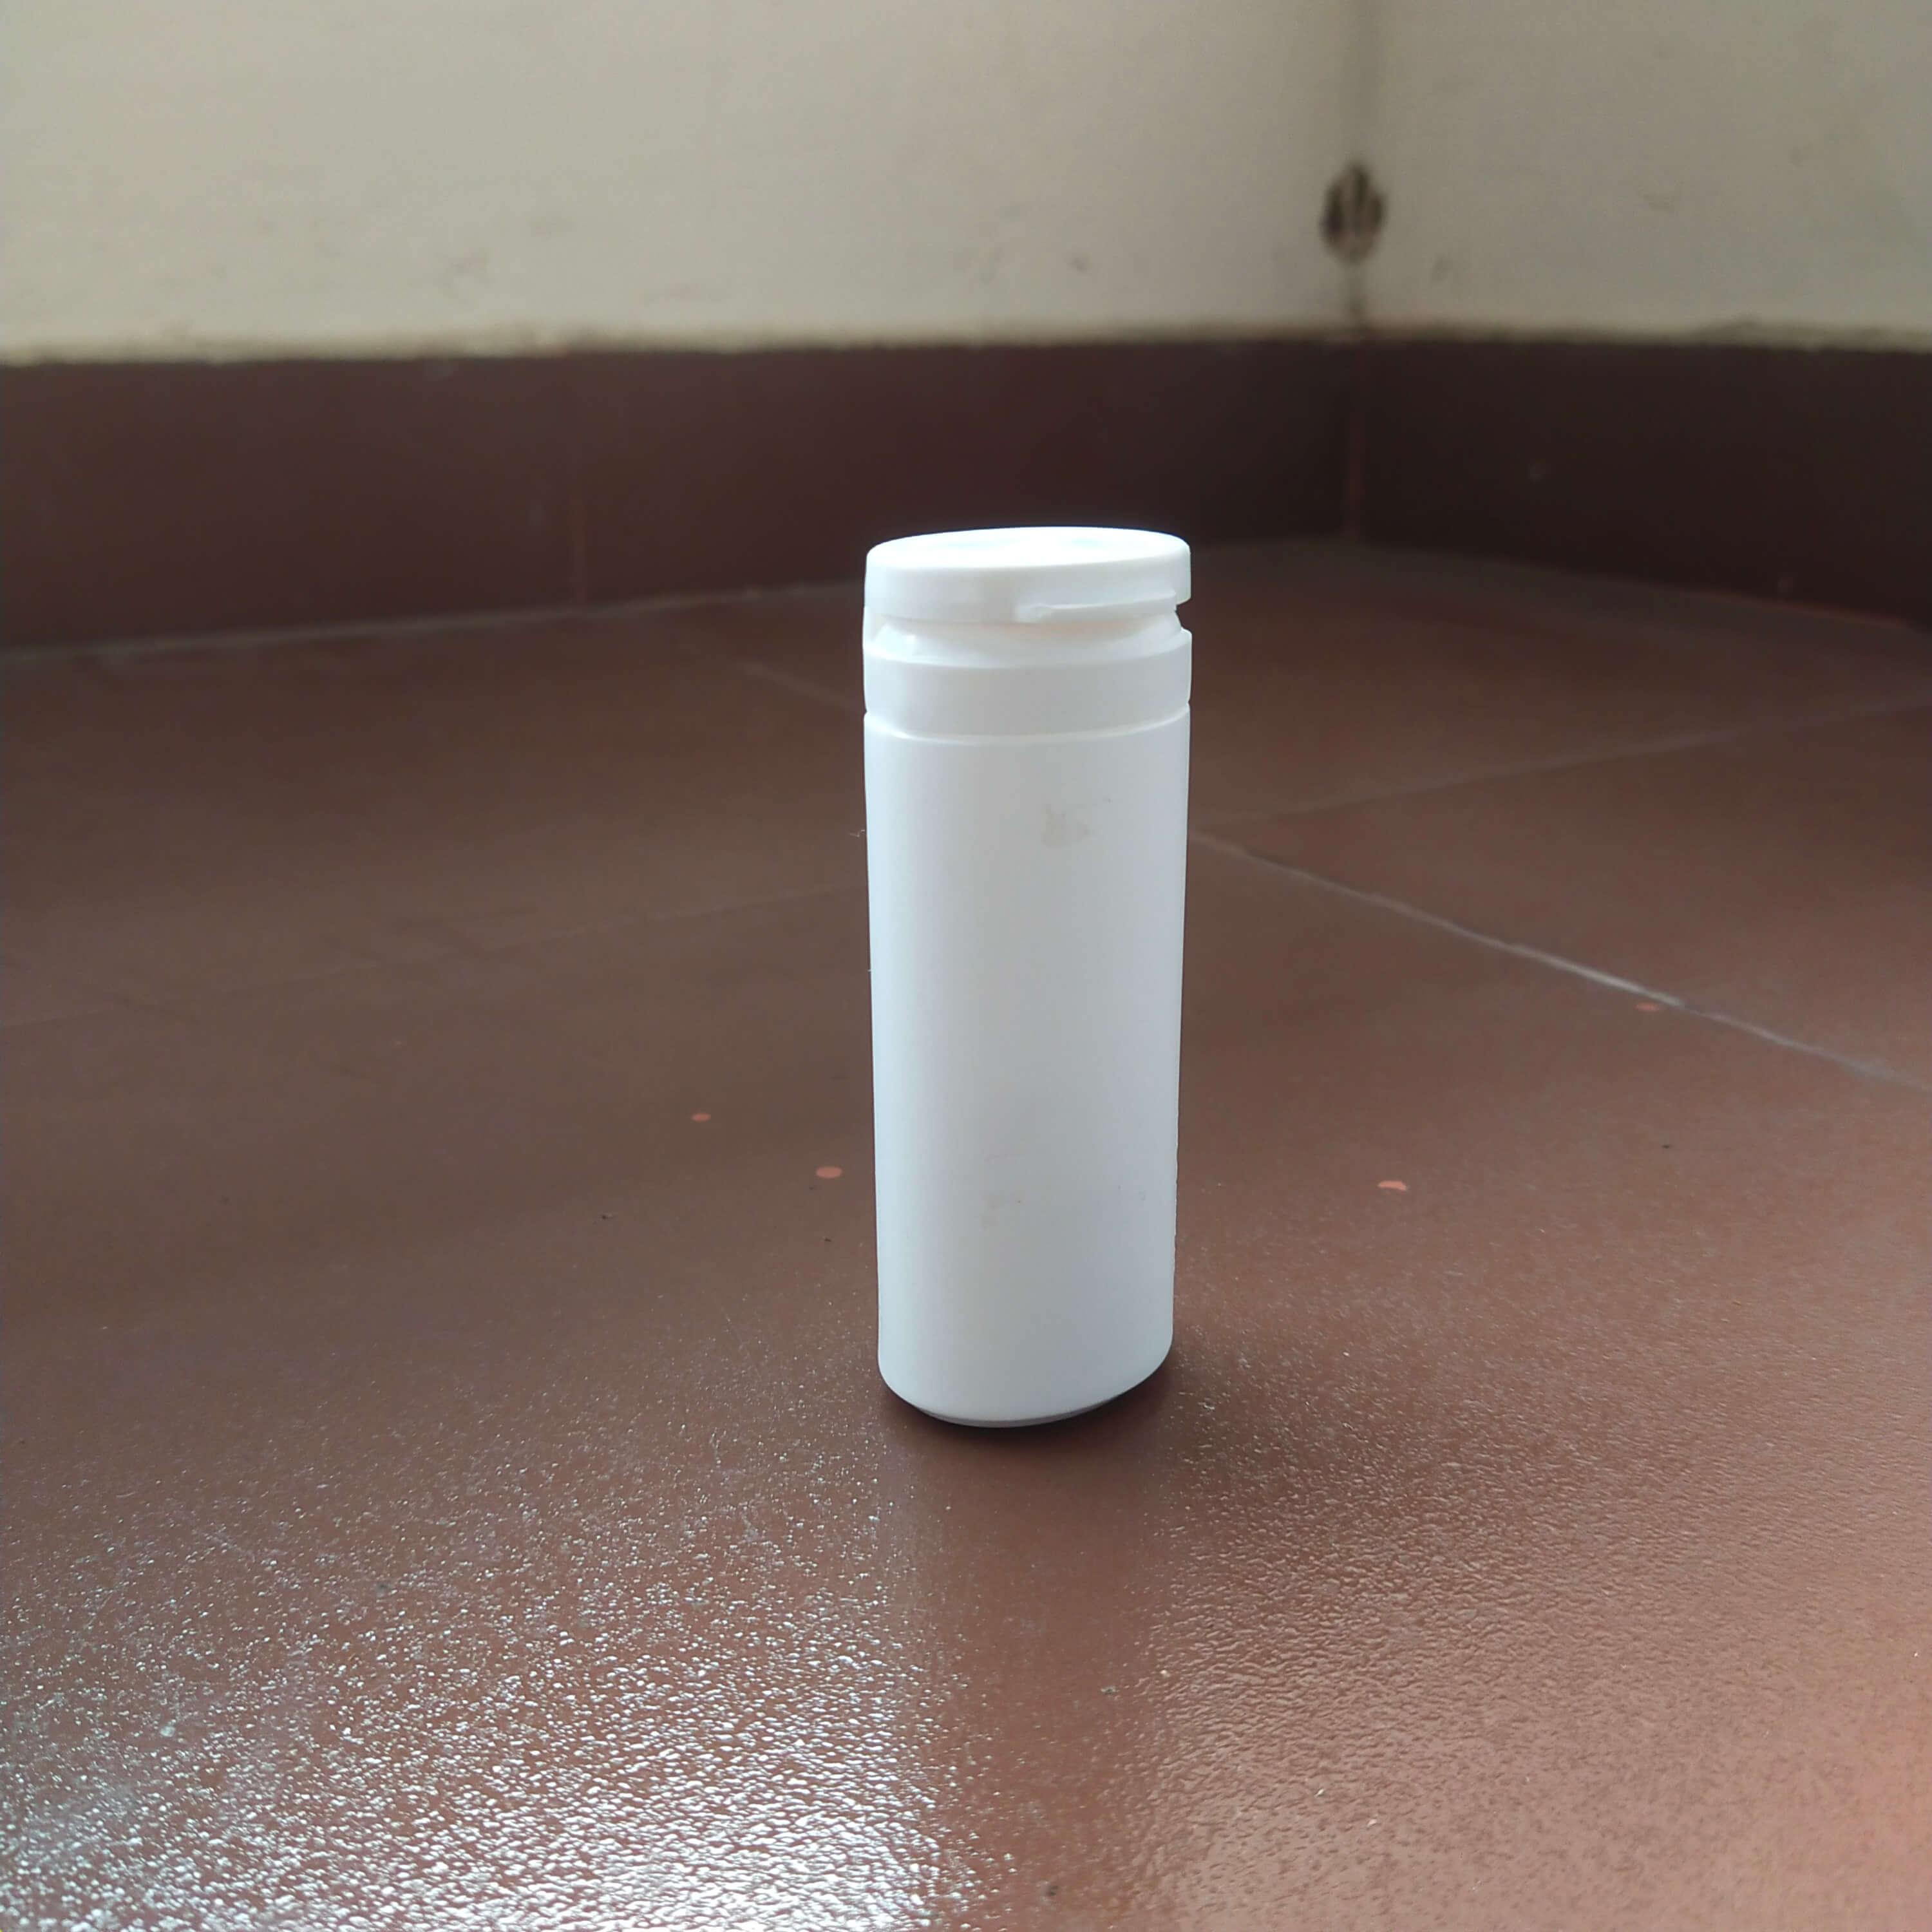plastic box: (796, 480, 1276, 1444)
